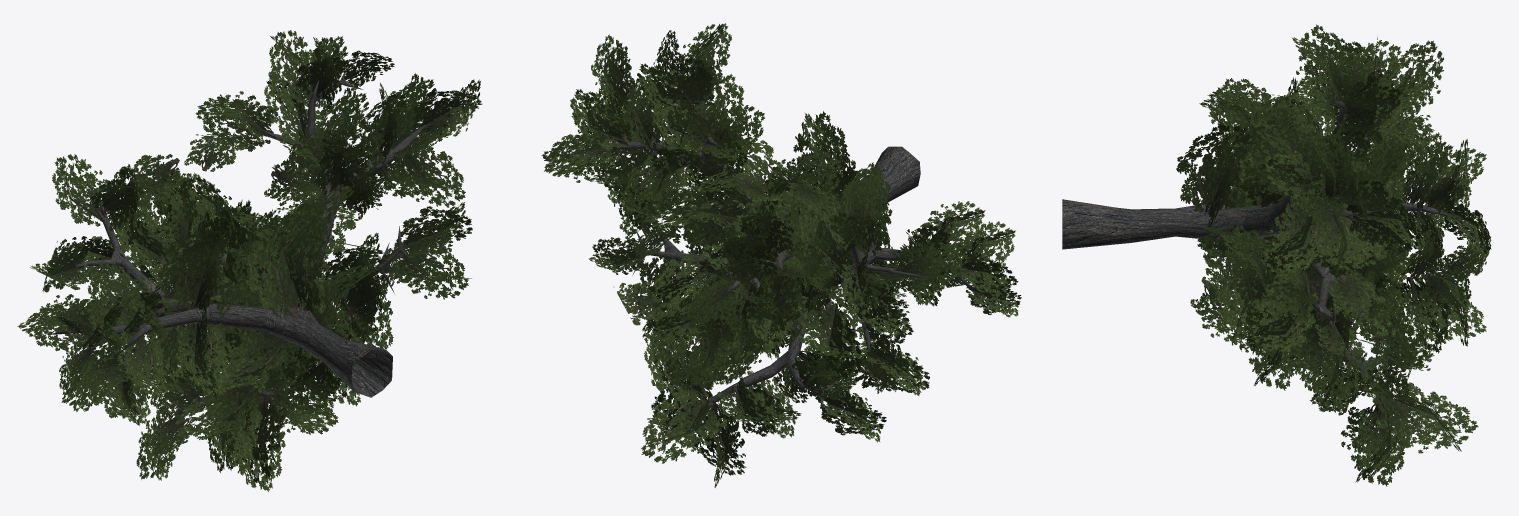
File: tree_terrain.FBX
3 views of the same model, side by side, from view 1: azimuth 30°, elevation 25°; view 2: azimuth 150°, elevation 25°; view 3: azimuth 270°, elevation 25° (orthographic). The views are drawn at different scales.
Parts seen in each view (by area): view 1: tree_terrain; view 2: tree_terrain; view 3: tree_terrain.
Part boxes in pixels (left/top/right/bottom): tree_terrain: left=17, top=30, right=482, bottom=491; tree_terrain: left=541, top=23, right=1021, bottom=487; tree_terrain: left=1062, top=24, right=1491, bottom=486.
Size of the model in its own units: 15.42 by 14.91 by 12.17.
